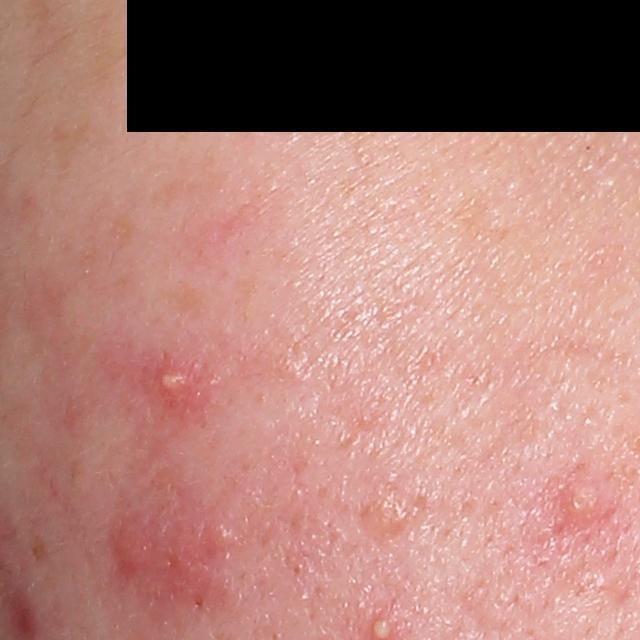melasma: (308, 87, 405, 212), (146, 267, 236, 329), (49, 117, 107, 192), (452, 184, 513, 249), (105, 212, 143, 249)
nodule: (110, 504, 233, 612)
pustule: (566, 484, 603, 527), (156, 369, 192, 396)
